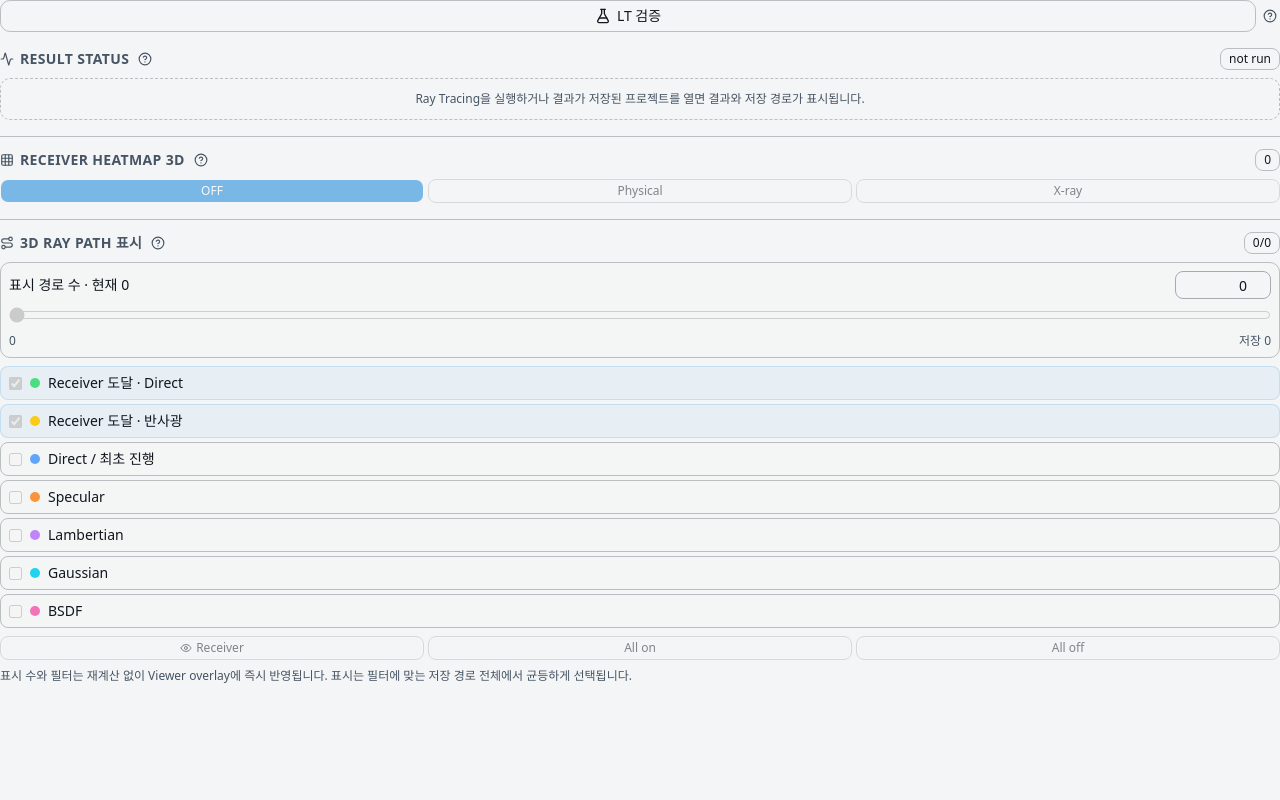
Test: LT validation UI › opens from the empty Result panel without CAD or an analysis result
What coordinates should you click on to do the following:
click the button "LT 검증"
I would click on:
 (628, 16)
Its box is 0,0 -> 1256,32.
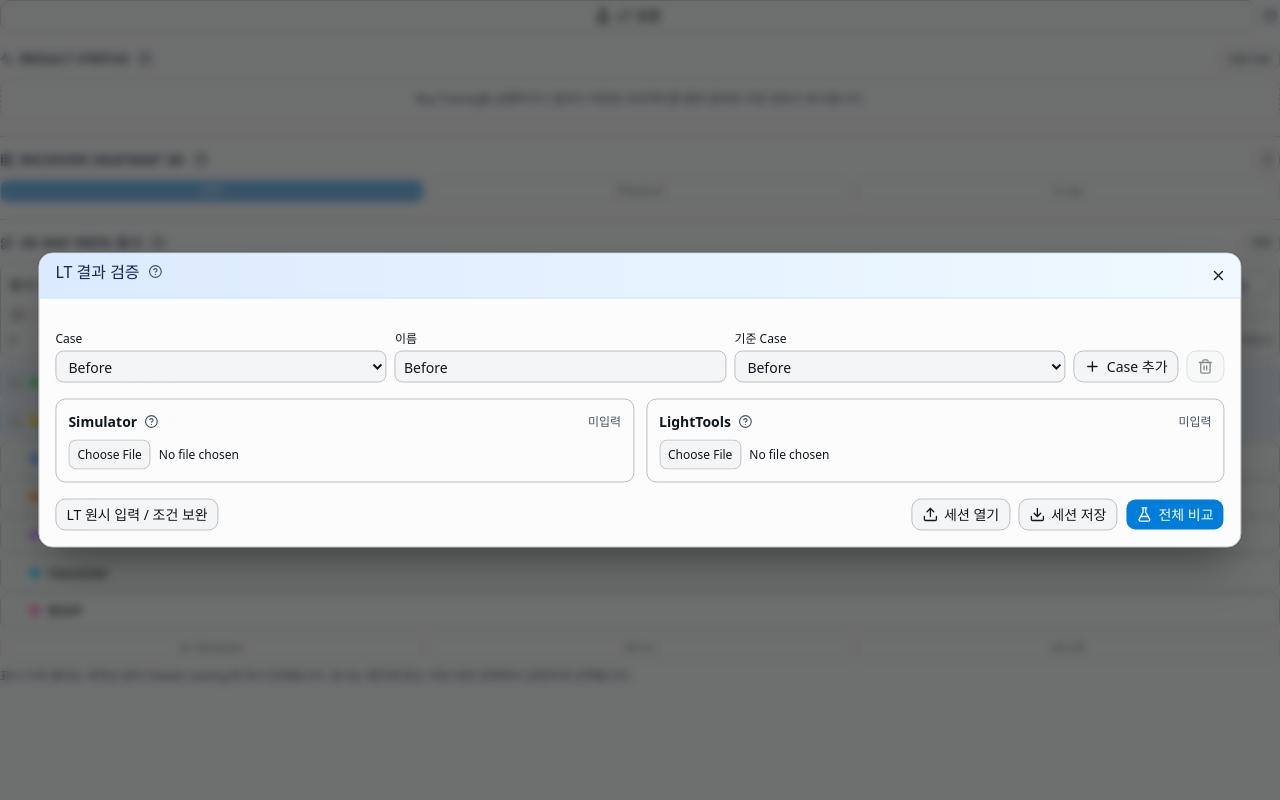
Result: the dialog "LT 결과 검증" is shown at 38,252 -> 1242,548
Result: the file field named "Simulator 파일" is shown at 68,440 -> 621,470
Result: the file field named "LightTools 파일" is shown at 659,440 -> 1212,470
